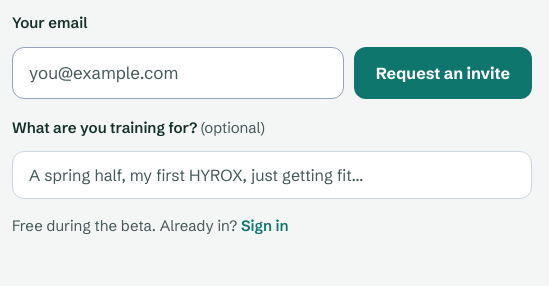
it: client validation › rejects name@example without sending
The width and height of the screenshot is (549, 286).
Type "name@example" into the field labelled "Your email" at {"x": 178, "y": 72}, box [12, 46, 344, 98]
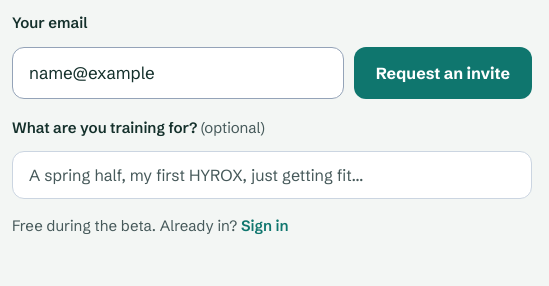
Click the button "Request an invite" at {"x": 443, "y": 72}, box [354, 46, 532, 98]
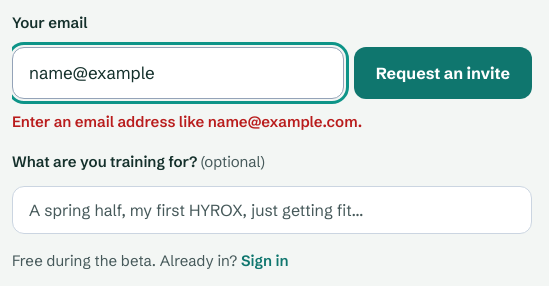
Now the text "Enter an email address like name@example.com." is shown, box [12, 112, 362, 130]
